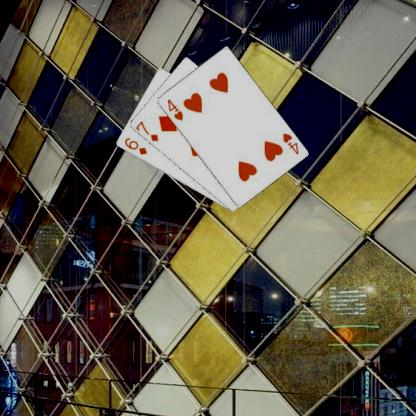4H: (164, 96, 184, 122), (280, 130, 300, 156)
6D: (121, 135, 148, 156)
7D: (134, 118, 160, 143)
